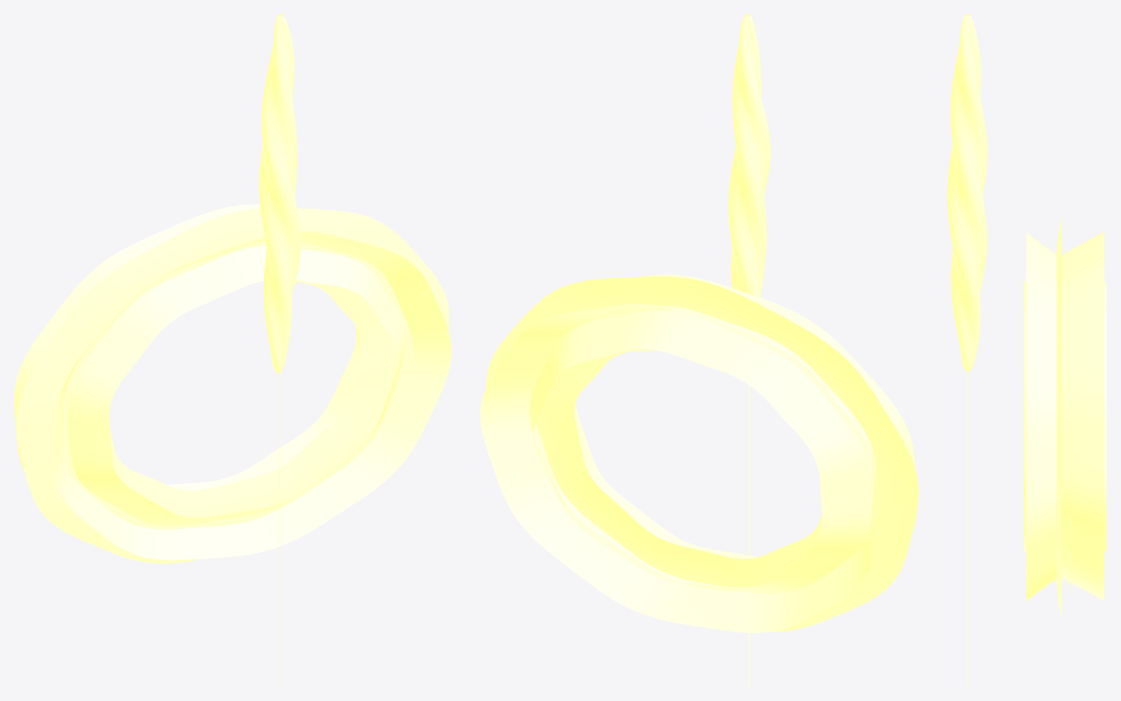
The model's file is plasma-surfaces-draco.glb.
3 views of the same model, side by side, from view 1: azimuth 30°, elevation 25°; view 2: azimuth 150°, elevation 25°; view 3: azimuth 270°, elevation 25° (orthographic).
Parts seen in each view (by area): view 1: Coral textured plasma veil.003, Green volumetric filament sleeve.001; view 2: Coral textured plasma veil.003, Green volumetric filament sleeve.001, Coral spatial strands; view 3: Coral textured plasma veil.003, Green volumetric filament sleeve.001, Coral spatial strands, Mint central beam.001.
Boxes of the visible parts, <box> form: Coral textured plasma veil.003: <box>14,204,451,563</box>; Green volumetric filament sleeve.001: <box>259,14,301,372</box>; Coral textured plasma veil.003: <box>480,274,918,632</box>; Green volumetric filament sleeve.001: <box>728,14,770,297</box>; Coral spatial strands: <box>521,299,881,603</box>; Coral textured plasma veil.003: <box>1023,218,1106,617</box>; Green volumetric filament sleeve.001: <box>947,14,987,371</box>; Coral spatial strands: <box>1053,250,1072,593</box>; Mint central beam.001: <box>967,371,968,686</box>.
Size of the model in its own units: 26.8 by 39.72 by 8.54.
